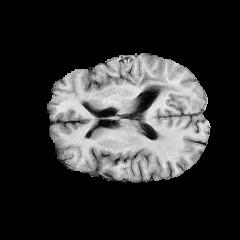glioma: (135, 68, 181, 99)
